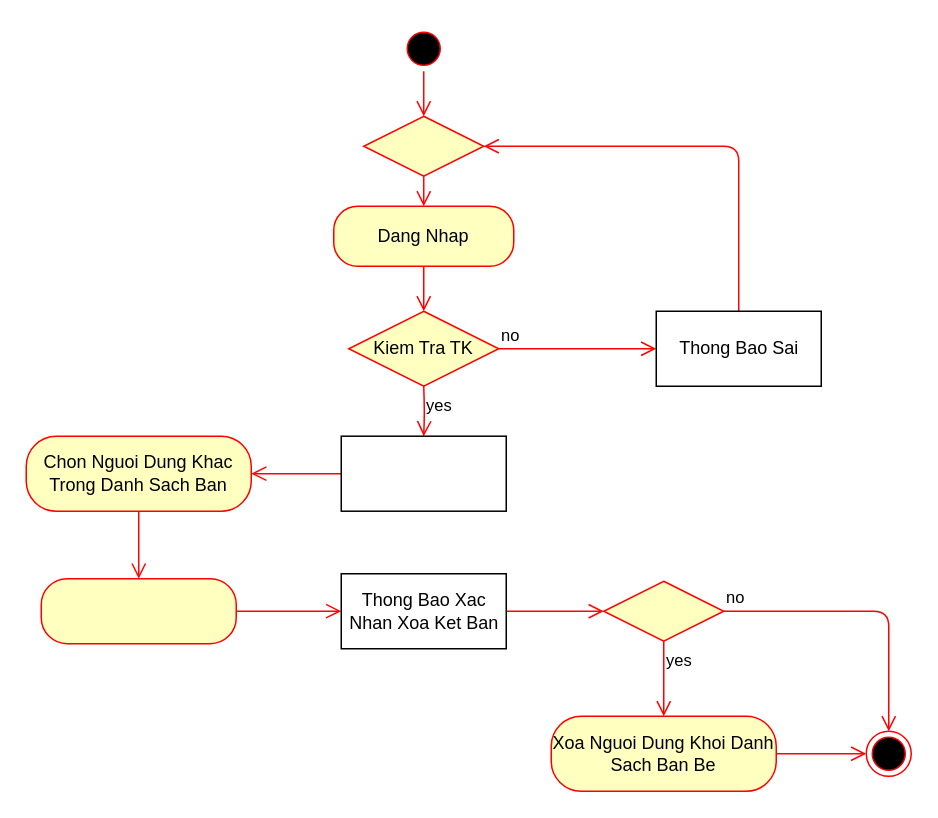
This 938x818 diagram has some shape labels left out. Each missing label, with the box of its shape:
Hien Thi Trang Chu: (340, 435, 506, 511)
Xac Nhan: (602, 580, 724, 641)
Xoa Ket Ban: (40, 577, 236, 644)
